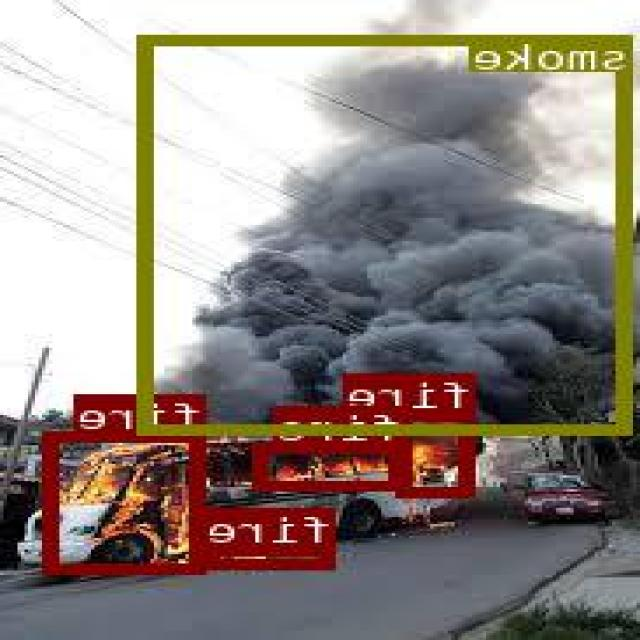fire: (49, 430, 206, 572), (400, 409, 478, 495), (257, 443, 407, 487), (209, 544, 337, 566)
smoke: (140, 33, 636, 432)
